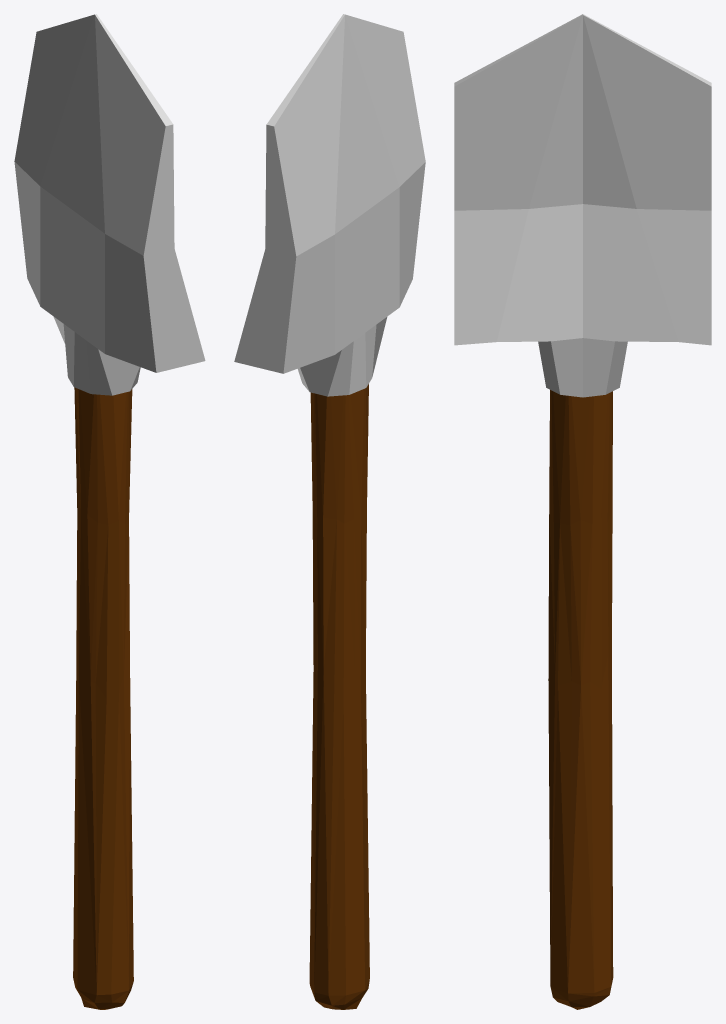
The model's file is Shovel.fbx.
3 views of the same model, side by side, from view 1: azimuth 30°, elevation 25°; view 2: azimuth 150°, elevation 25°; view 3: azimuth 270°, elevation 25° (orthographic).
Parts seen in each view (by area): view 1: Cube, Shaft; view 2: Cube, Shaft; view 3: Cube, Shaft.
Part boxes in pixels (x1=…): Cube: x1=14, y1=14, x2=205, y2=395; Shaft: x1=73, y1=387, x2=133, y2=1009; Cube: x1=234, y1=14, x2=425, y2=396; Shaft: x1=309, y1=384, x2=369, y2=1009; Cube: x1=454, y1=14, x2=711, y2=397; Shaft: x1=548, y1=390, x2=613, y2=1009.
Size of the model in its own units: 3.17 by 44.09 by 10.39.
